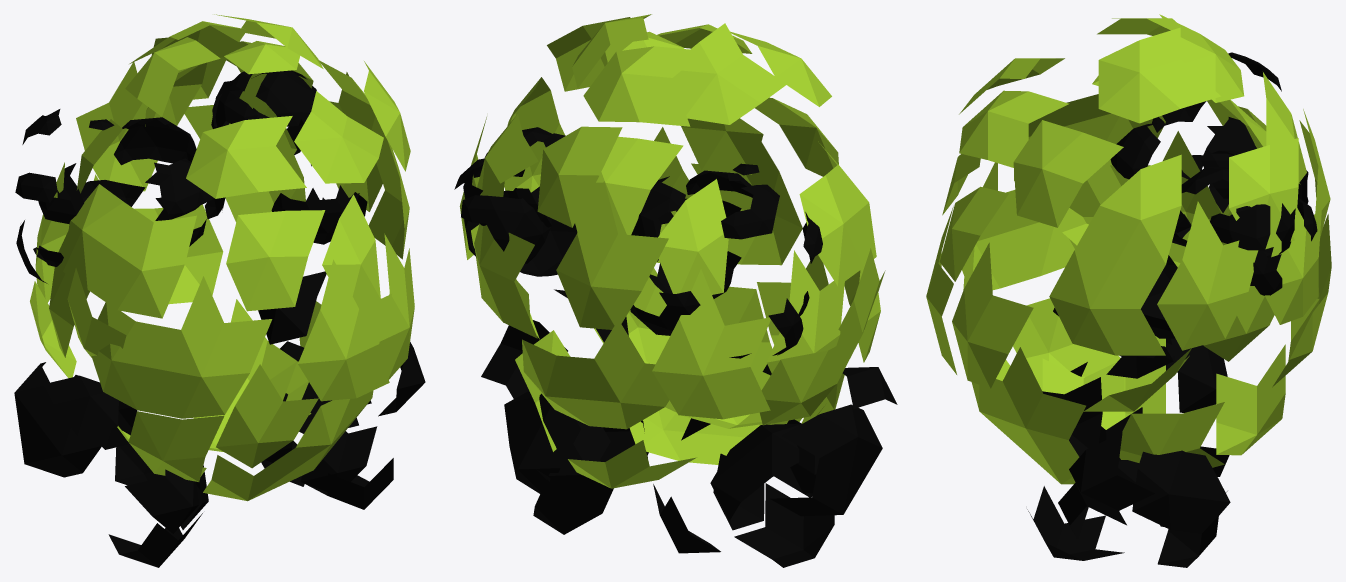
The model's file is explode.f0002.glb.
The picture shows the model from 3 angles, left to right: view 1: azimuth 30°, elevation 25°; view 2: azimuth 150°, elevation 25°; view 3: azimuth 270°, elevation 25°; orthographic projection. The views are drawn at different scales.
Parts seen in each view (by area): view 1: Body.001; view 2: Body.001; view 3: Body.001.
Part boxes in pixels (<box>): Body.001: <box>14,14,425,567</box>; Body.001: <box>454,14,897,567</box>; Body.001: <box>926,14,1331,567</box>.
Bounding box in the file's own units: 2.67 × 3.42 × 2.48.
Materials: 1 (1 with a texture image).
